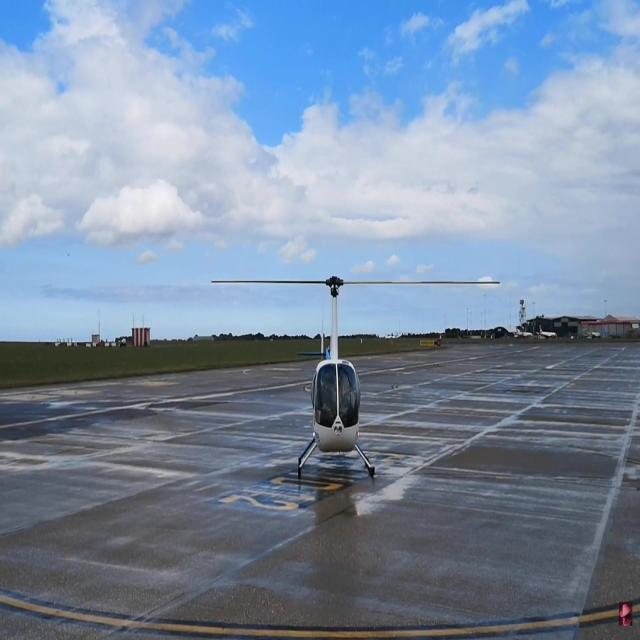CIV_HELO: (296, 274, 376, 480)
